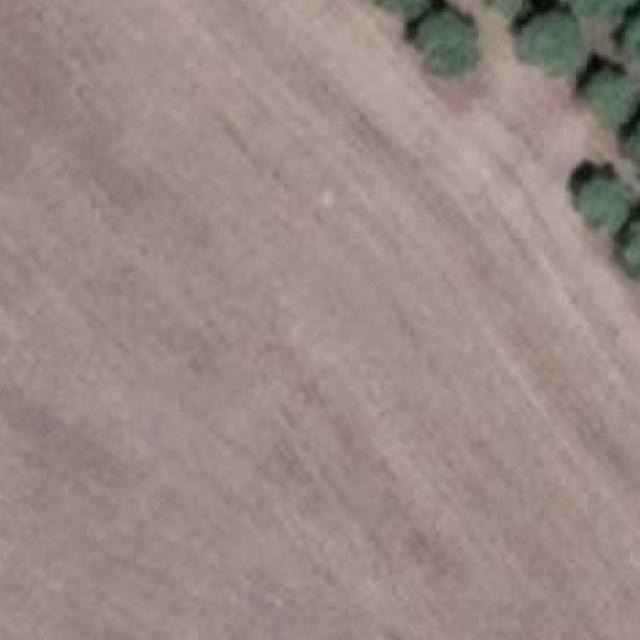Tree: (522, 12, 587, 71), (584, 69, 636, 123), (579, 174, 626, 226), (420, 15, 468, 64), (621, 4, 640, 58), (579, 0, 636, 17), (625, 217, 640, 280), (376, 0, 422, 17), (627, 111, 640, 171), (481, 0, 524, 14)
